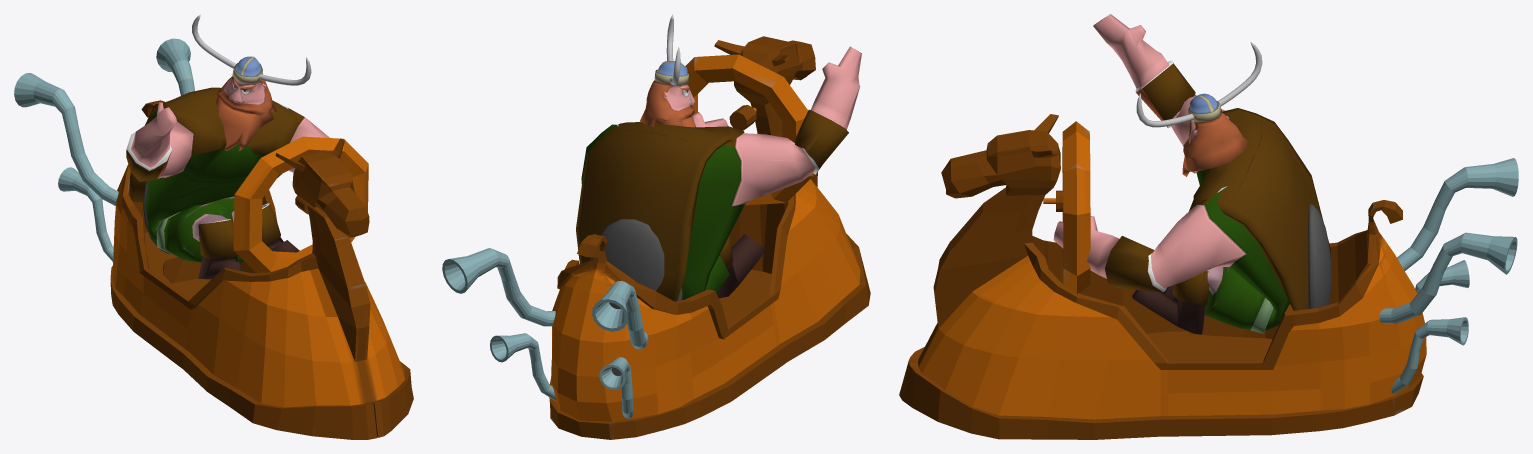
File: vikingoVacile_000444.obj
3 views of the same model, side by side, from view 1: azimuth 30°, elevation 25°; view 2: azimuth 150°, elevation 25°; view 3: azimuth 270°, elevation 25° (orthographic). The views are drawn at different scales.
Parts seen in each view (by area): view 1: kartVikingo, Vikingo; view 2: kartVikingo, Vikingo; view 3: kartVikingo, Vikingo.
Boxes of the visible parts, <box> form: kartVikingo: <box>14,38,413,439</box>; Vikingo: <box>126,14,329,279</box>; kartVikingo: <box>442,36,870,439</box>; Vikingo: <box>576,14,861,301</box>; kartVikingo: <box>899,114,1518,439</box>; Vikingo: <box>1053,14,1330,334</box>.
Size of the model in its own units: 4.84 by 6.36 by 10.31.
2 materials, 2 textured.
